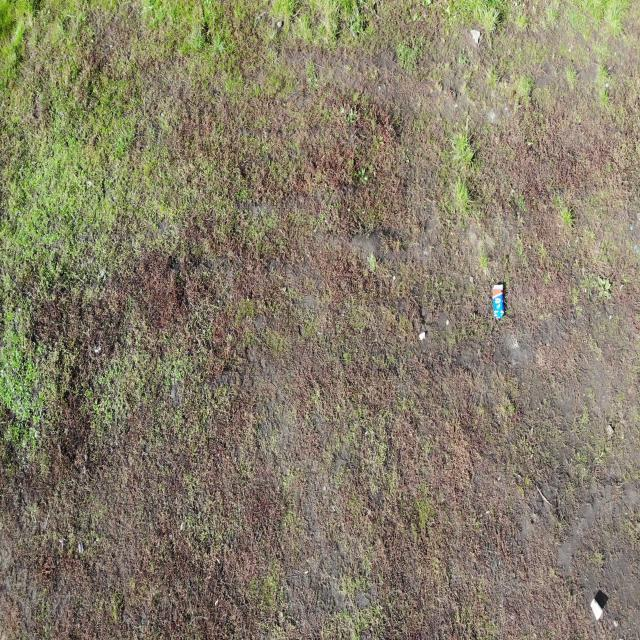rubbish: (492, 284, 505, 319), (589, 601, 604, 623)
